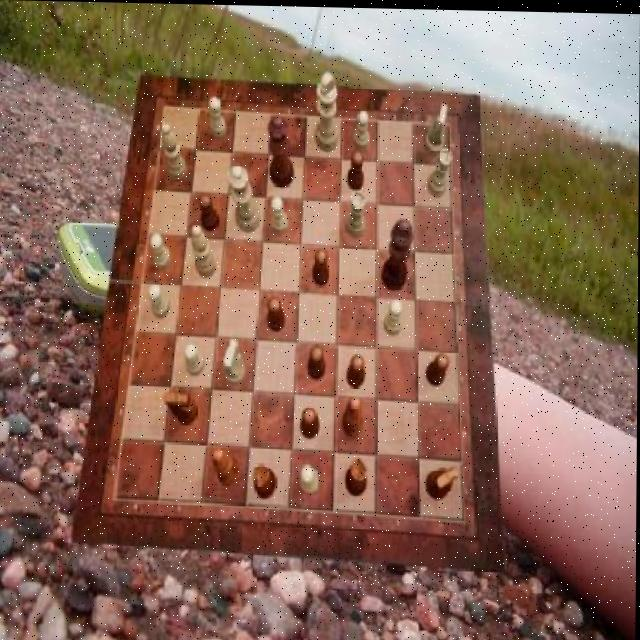bishop: (213, 447, 240, 485), (342, 397, 363, 437)
black-bishop: (381, 217, 414, 290)
black-king: (428, 465, 461, 499), (165, 392, 199, 425)
black-knight: (425, 350, 450, 385), (200, 193, 220, 231), (346, 149, 364, 188), (312, 247, 330, 285), (269, 295, 287, 330), (302, 405, 321, 438), (309, 344, 326, 379), (349, 354, 366, 388)
black-pawn: (268, 115, 295, 188)
black-queen: (346, 457, 369, 495), (253, 463, 277, 499)
black-rook: (160, 123, 188, 182), (192, 223, 217, 278)
white-bishop: (315, 70, 339, 150)
white-king: (425, 101, 448, 154), (224, 338, 247, 384)
white-knight: (150, 232, 172, 270), (149, 283, 172, 318), (210, 96, 228, 138), (185, 342, 206, 376), (353, 109, 370, 151), (271, 196, 289, 234), (386, 298, 404, 334), (302, 462, 321, 494)
white-pawn: (228, 164, 262, 232)
white-queen: (428, 146, 453, 195), (346, 189, 366, 235)
